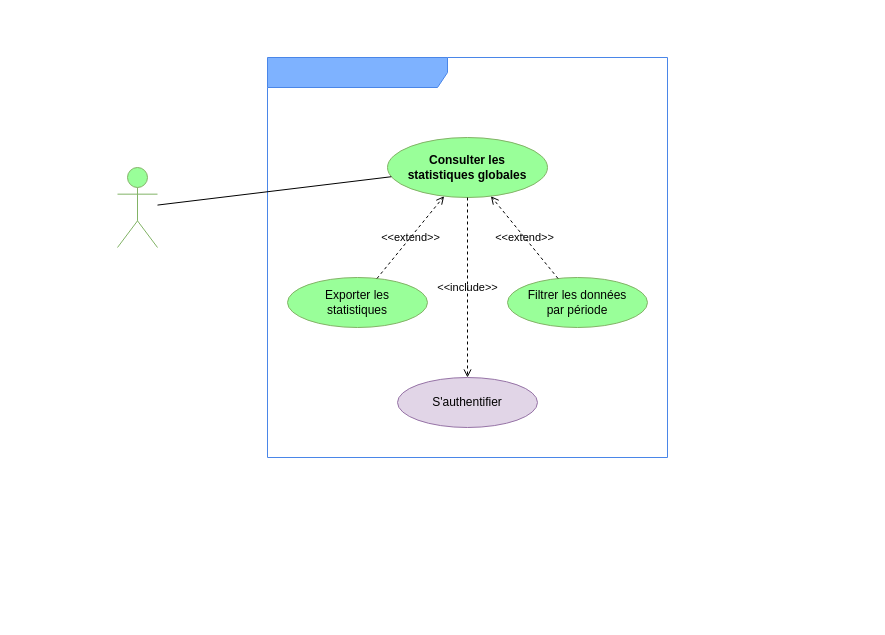
Some shapes in this 885 by 635 pixel diagram are drawn without their labels. Here are the shapes that lost their labels. From the top down, the box of each, then its label:
(116, 166, 158, 248): Administrateur
(266, 56, 668, 458): Tableau de bord
